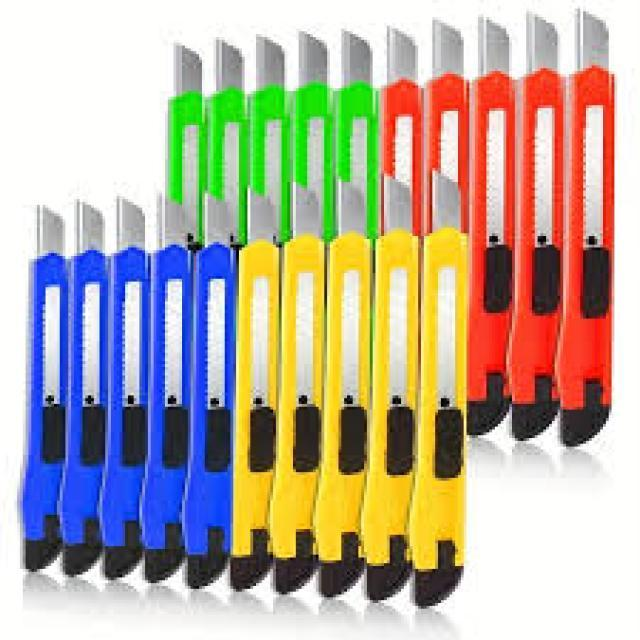cutter: (560, 9, 618, 456), (418, 178, 470, 618), (510, 12, 560, 444), (182, 191, 235, 594), (324, 180, 373, 612), (370, 175, 419, 606), (276, 184, 324, 600), (15, 202, 66, 576), (59, 197, 108, 582), (141, 197, 187, 591), (104, 198, 150, 589), (467, 16, 510, 433), (236, 185, 276, 598), (248, 32, 299, 240), (289, 18, 337, 238), (206, 34, 252, 256), (381, 32, 428, 242), (336, 23, 380, 234), (428, 19, 466, 234), (170, 43, 208, 245)
